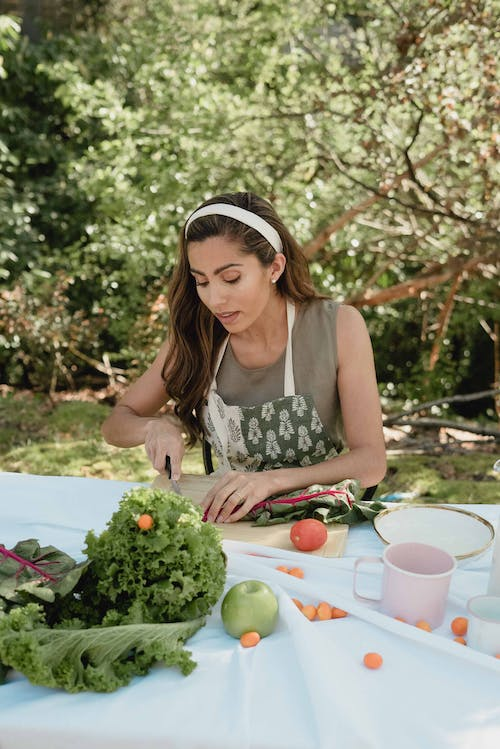knife: (164, 456, 182, 496)
